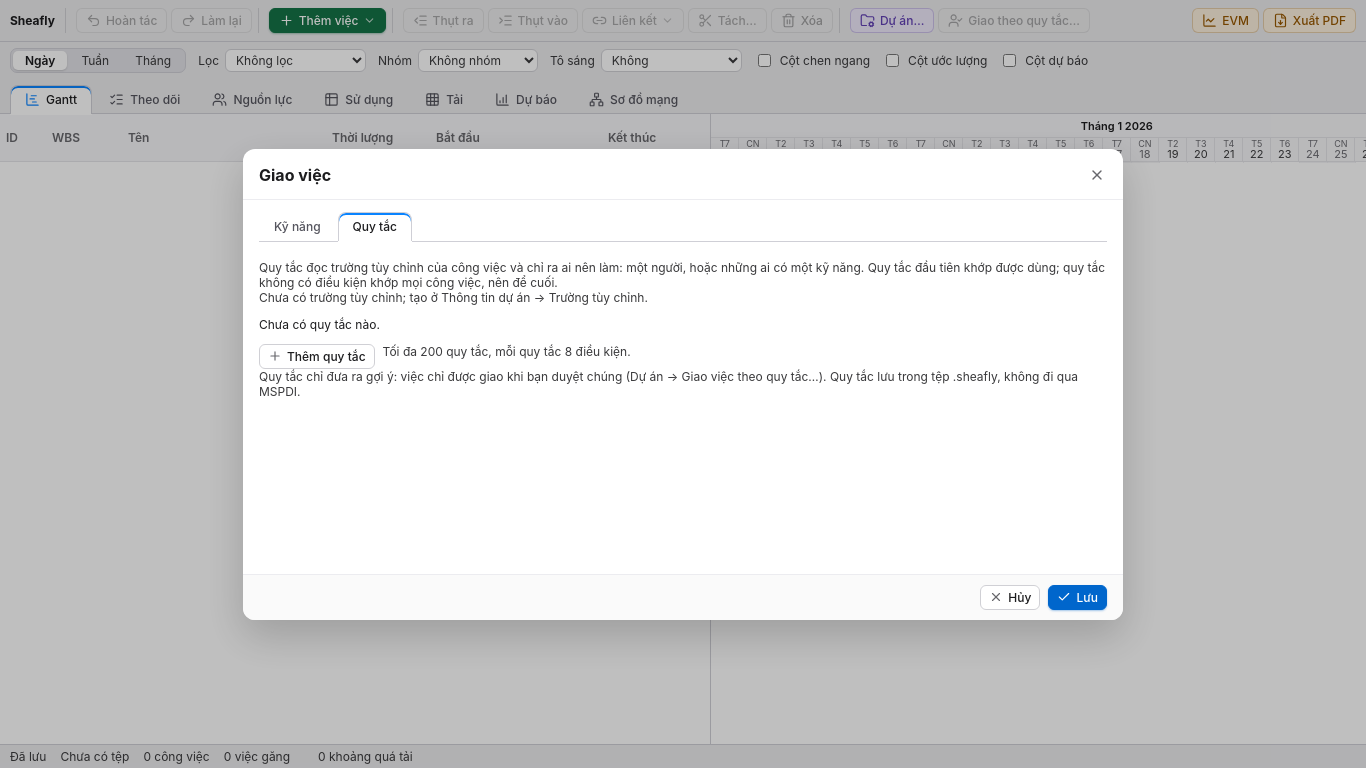
Test: Root › gives people skills and adds a rule in the Giao việc dialog
Expected: the button "Hoàn tác" is shown, [76,8,167,33]
Expected: the dialog "Giao việc" is shown, [243,148,1123,620]
Click the tab "Kỹ năng".
click(297, 226)  # box [259,212,336,240]
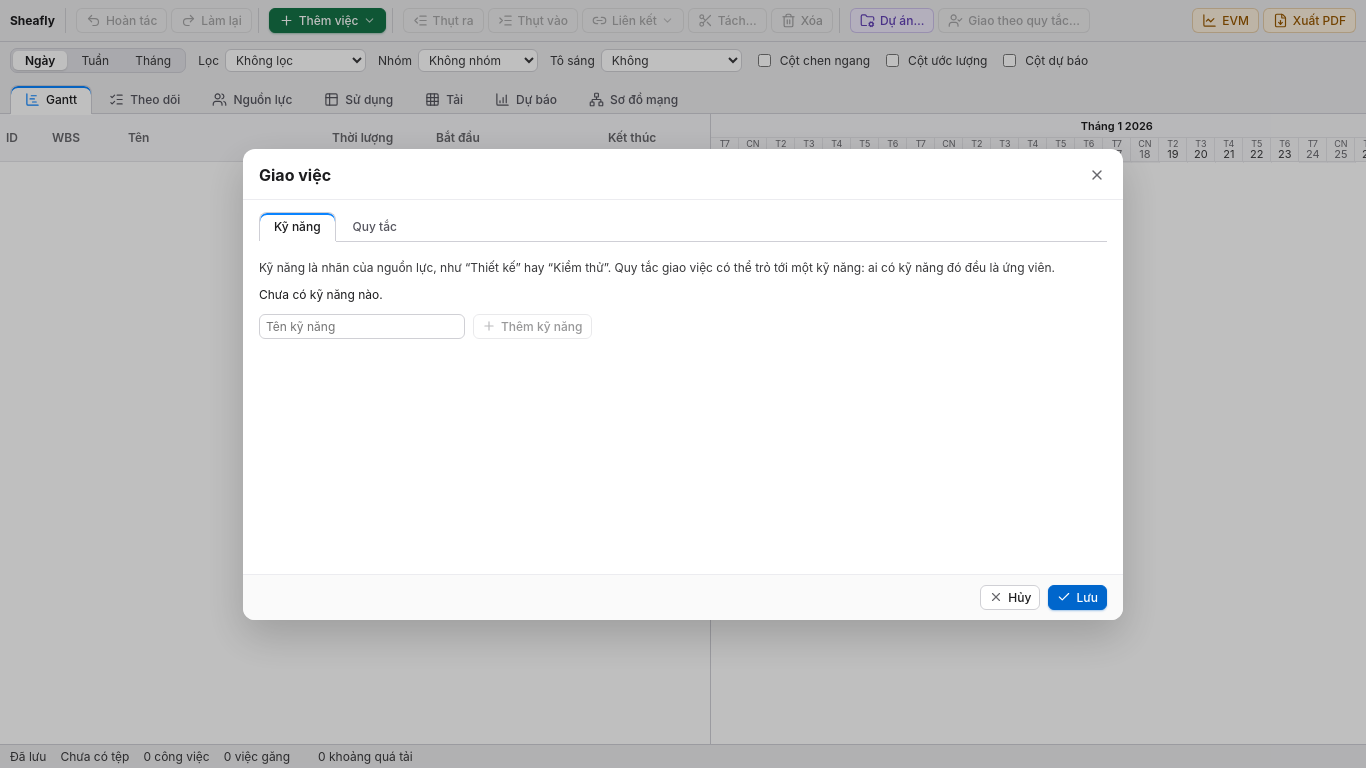
Type "Kiểm thử" into the field named "Kỹ năng mới".
click(362, 326); type("Kiểm thử")  # box [259,314,465,338]
Then press Enter
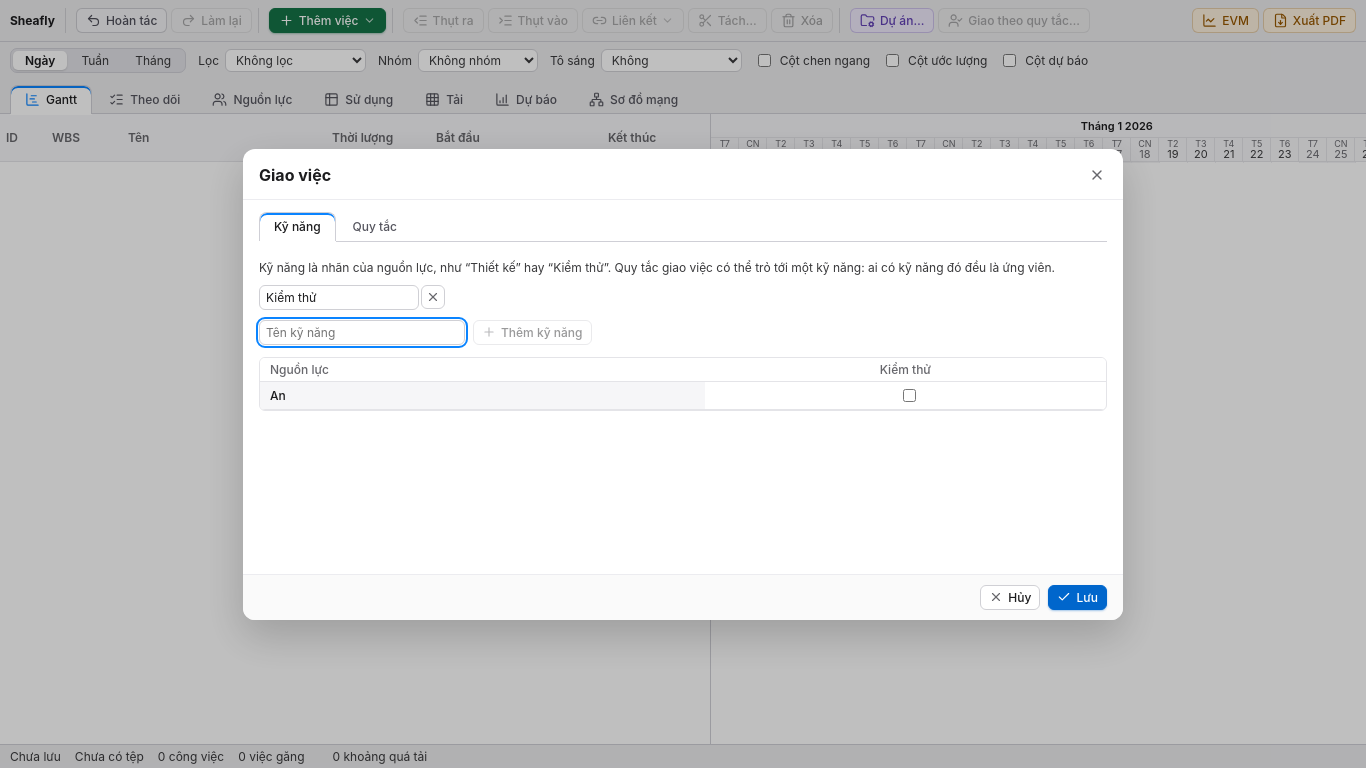
Click the checkbox named "An có Kiểm thử".
click(909, 395)  # box [719,388,1100,402]
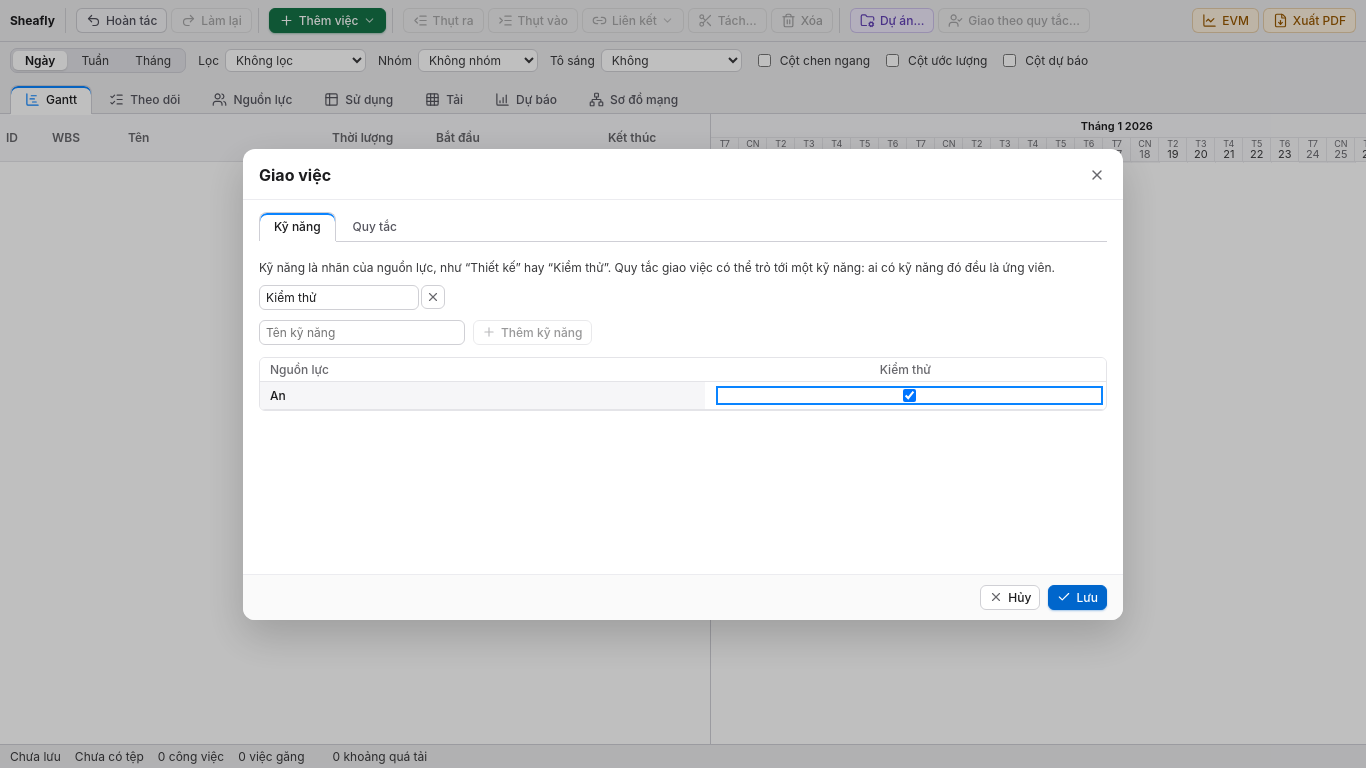
Result: the checkbox named "An có Kiểm thử" is checked at [719,388,1100,402]
Click the tab "Quy tắc".
click(375, 226)  # box [338,212,412,240]
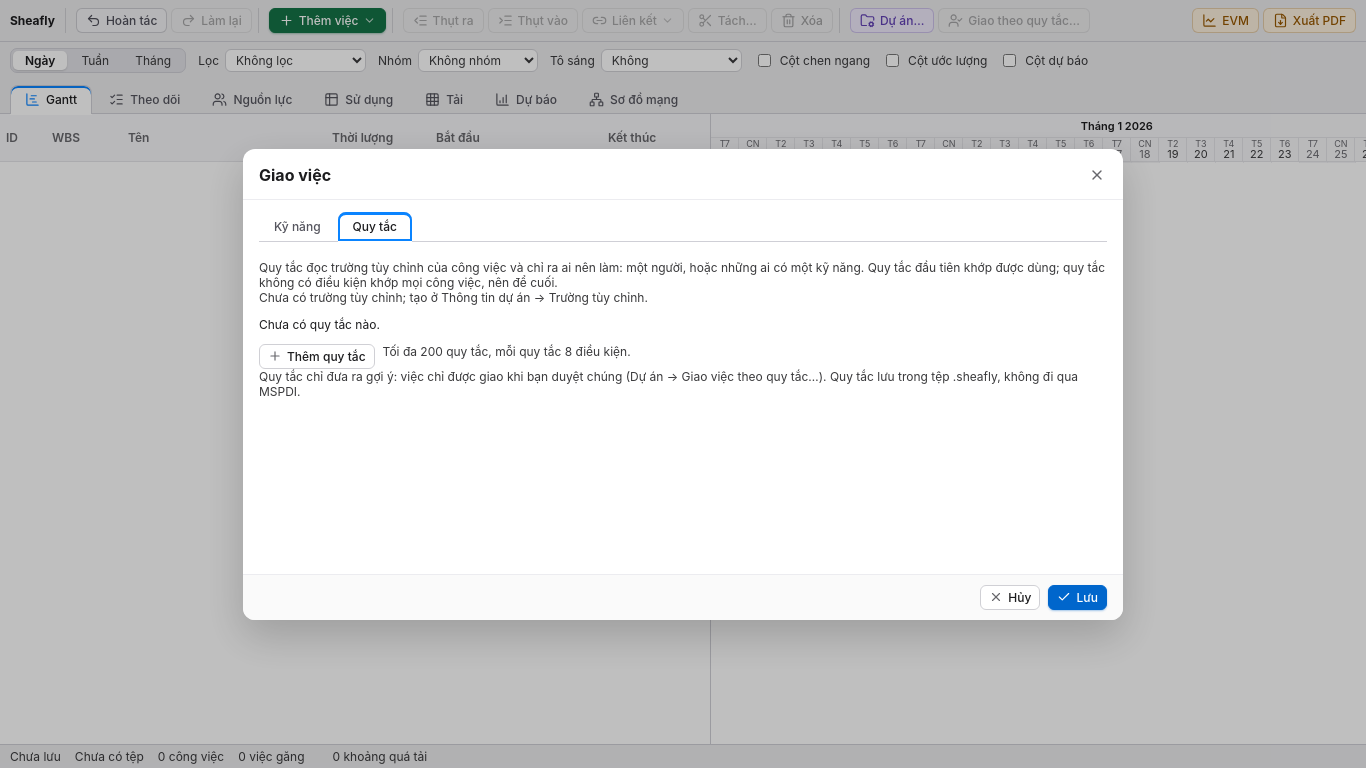
Click the button "Thêm quy tắc".
click(317, 356)  # box [259,344,375,368]
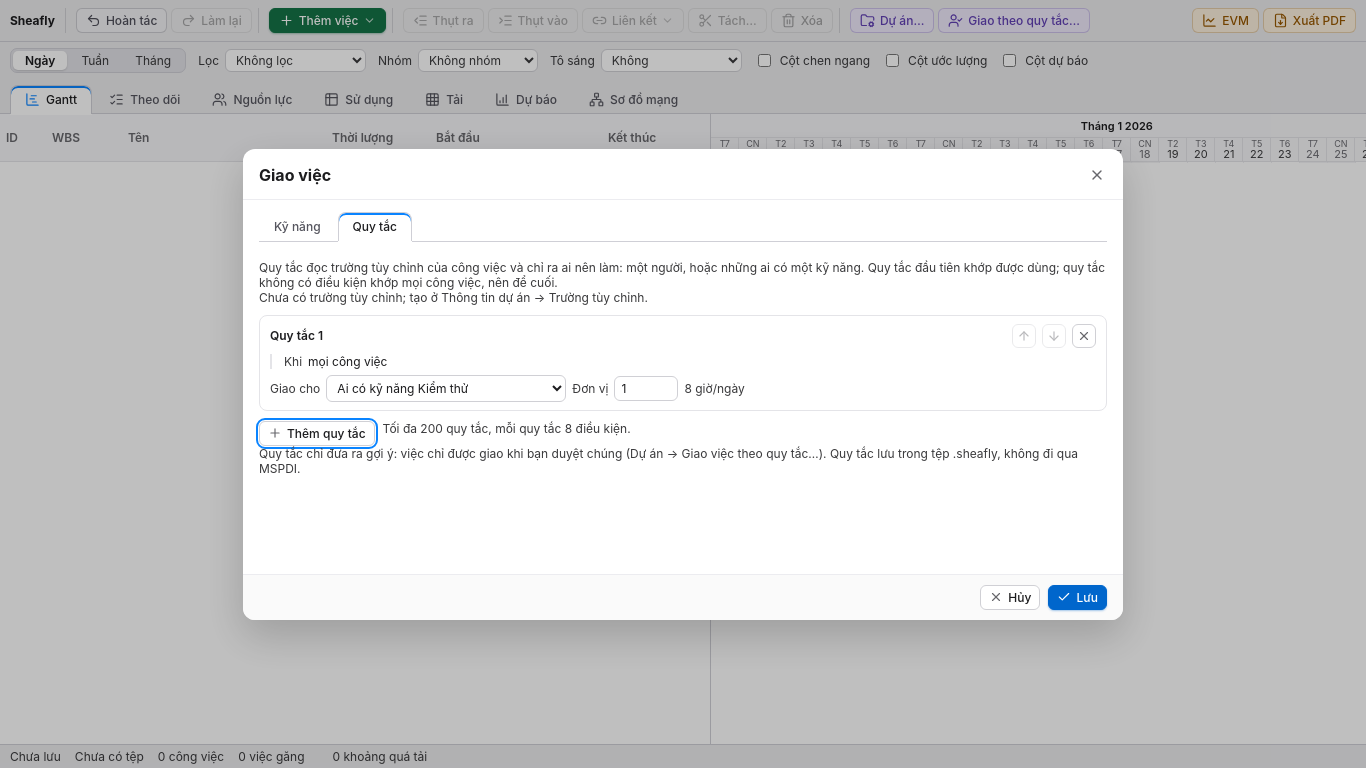
Result: the dropdown named "Giao cho, quy tắc 1" shows "Ai có kỹ năng Kiểm thử" at [326,374,566,402]
Click the button "Lưu".
click(1078, 597)  # box [1048,584,1107,610]
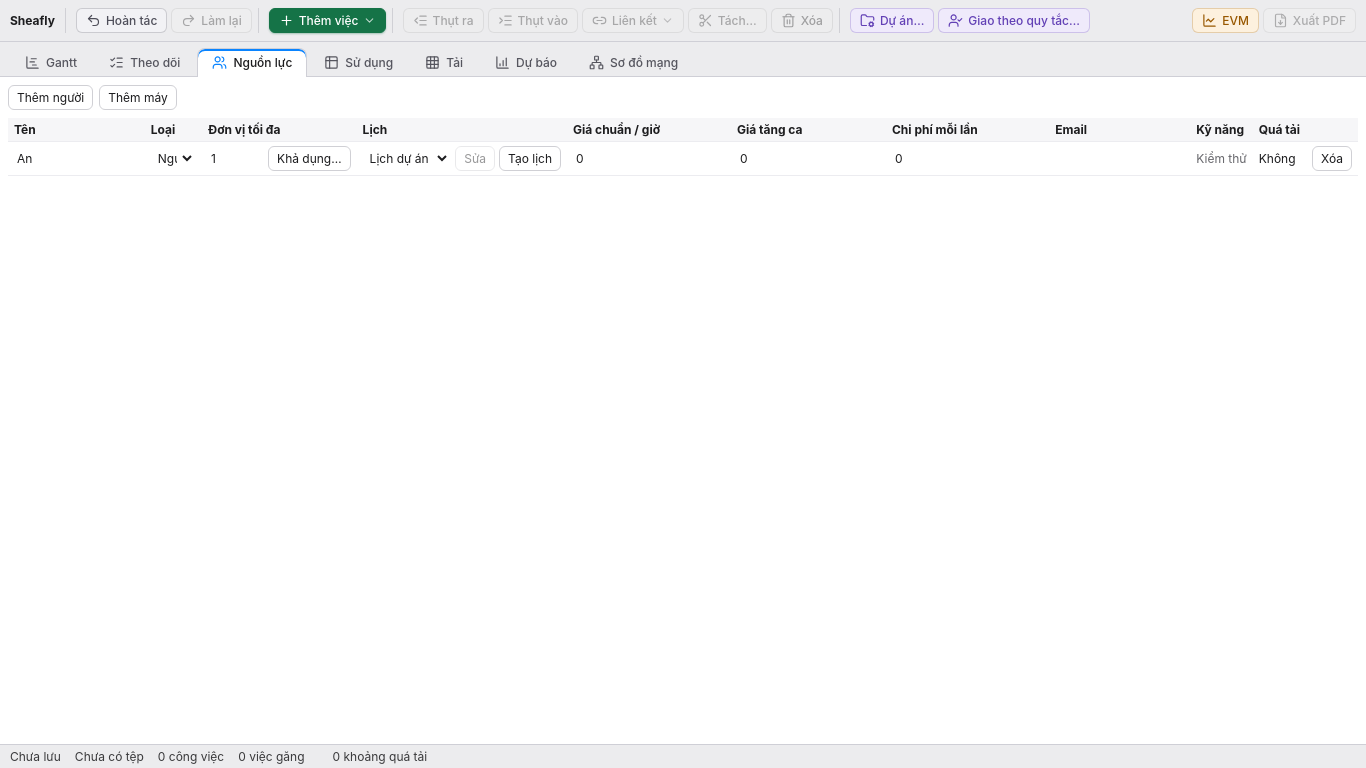
Result: the heading "Giao việc" is gone
Result: the cell "Kiểm thử" is shown at [1190,142,1253,176]
